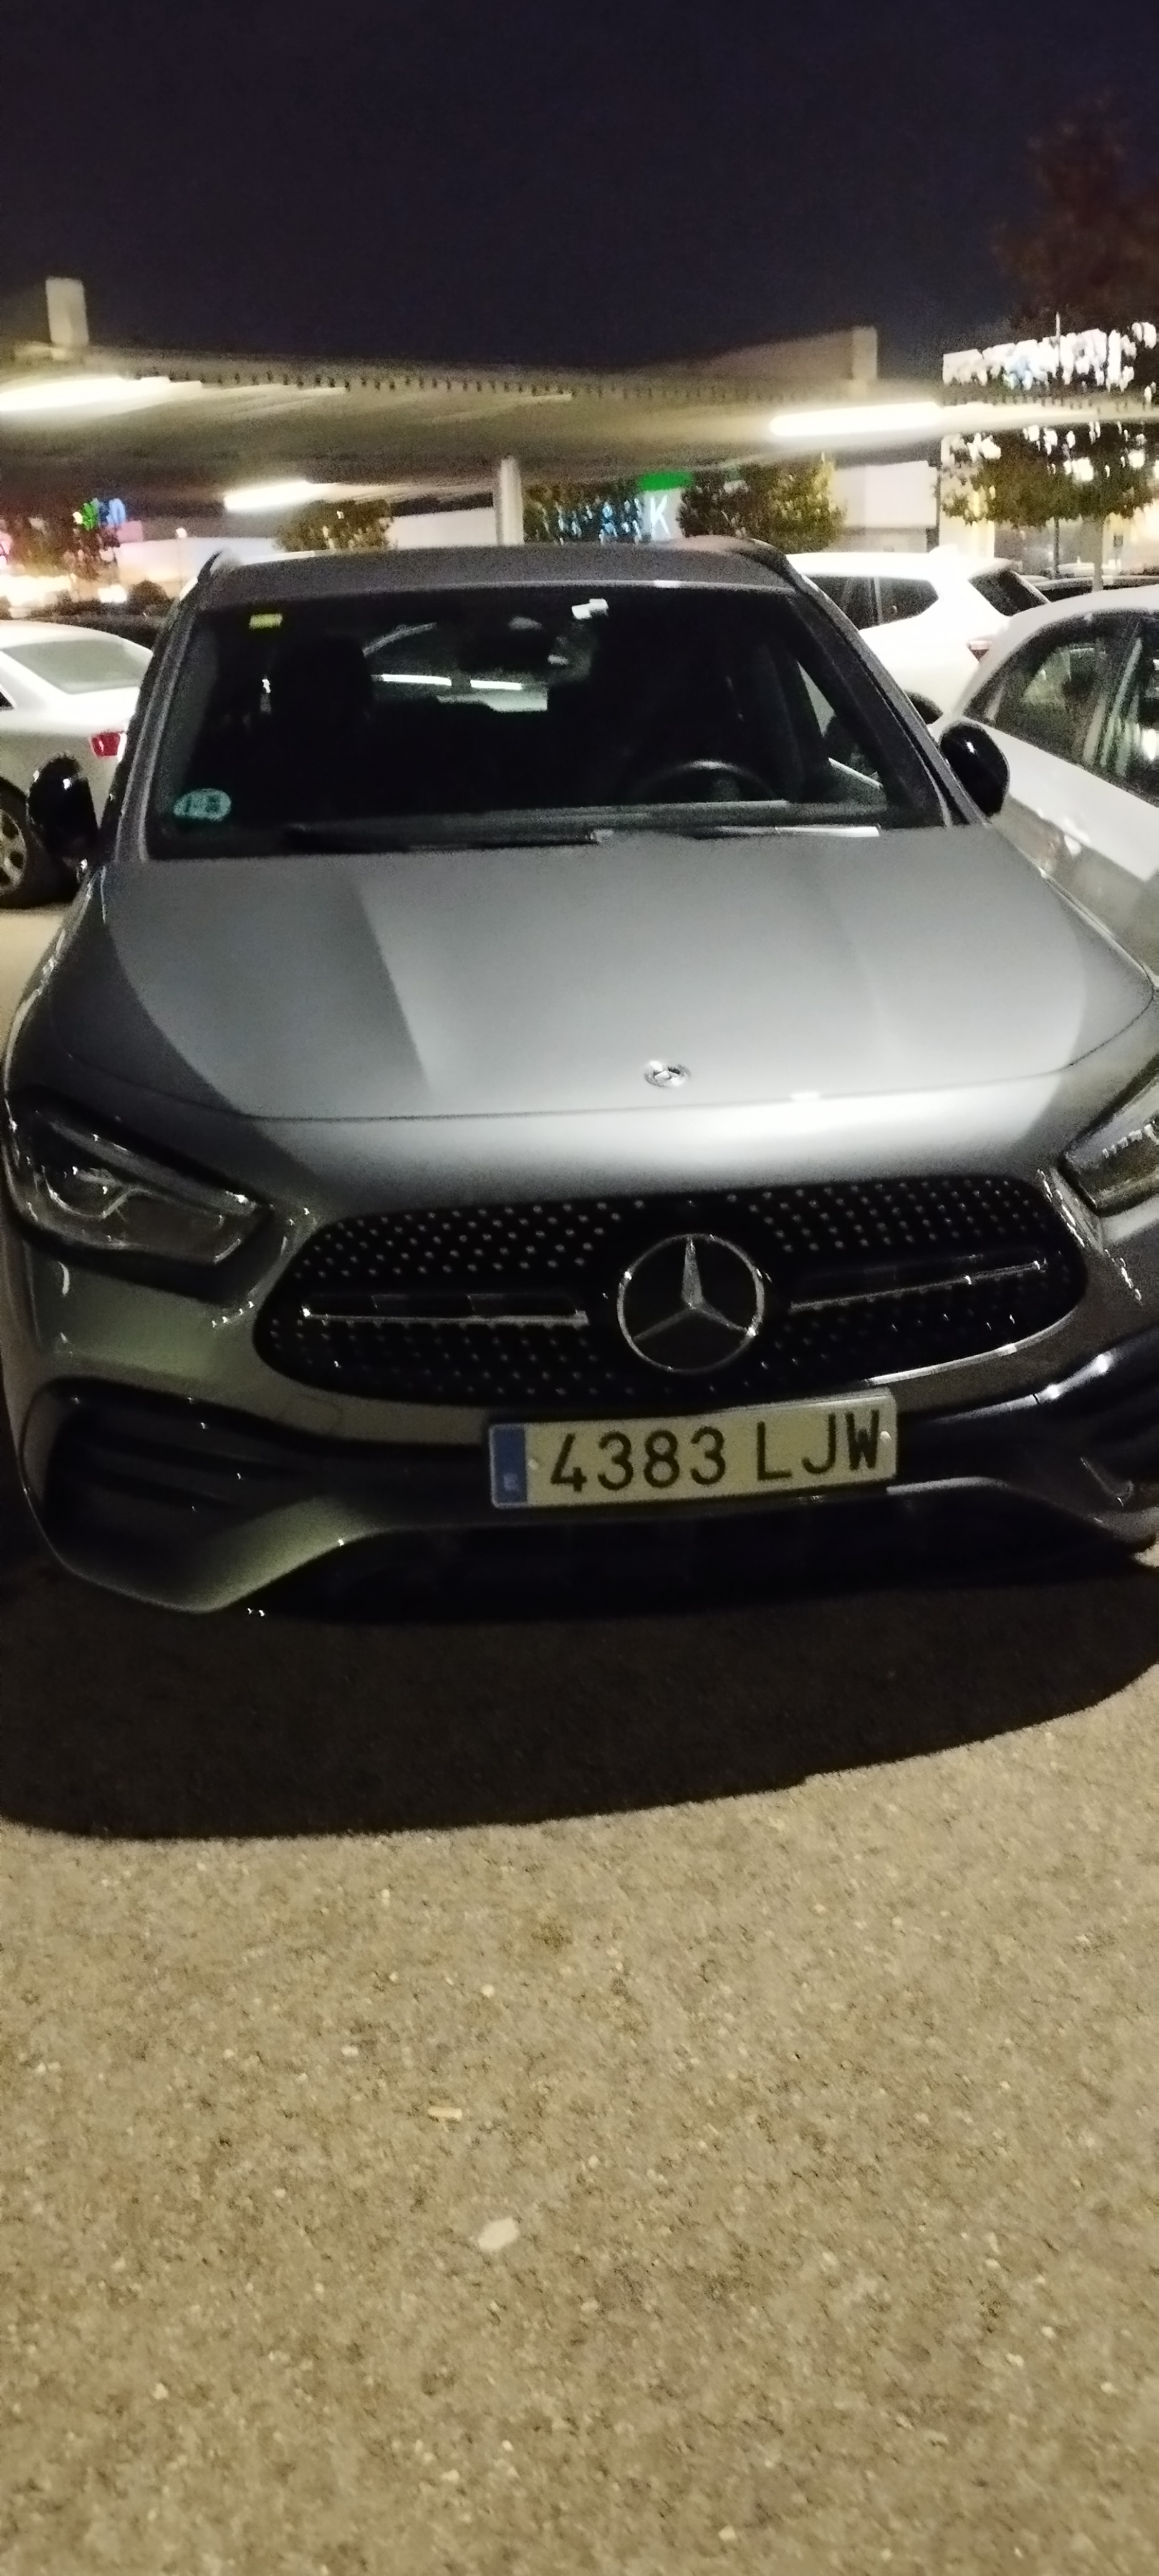Car: (0, 551, 1158, 1627)
Plate: (495, 1436, 880, 1513)
